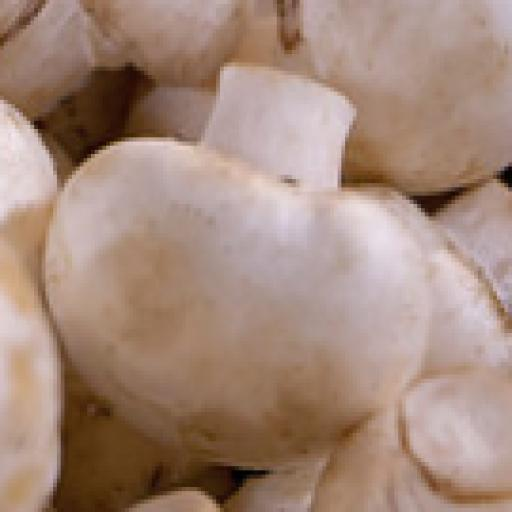Button Mushroom: (44, 56, 429, 459)
